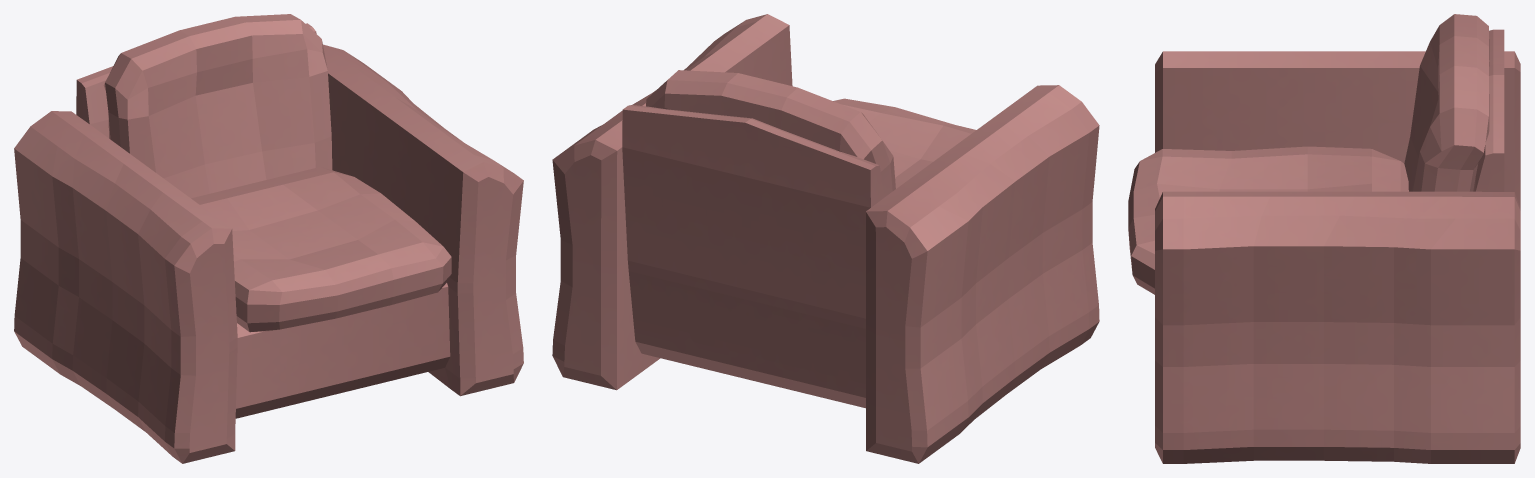
File: arm_chair_1.glb
3 views of the same model, side by side, from view 1: azimuth 30°, elevation 25°; view 2: azimuth 150°, elevation 25°; view 3: azimuth 270°, elevation 25° (orthographic). The views are drawn at different scales.
Parts seen in each view (by area): view 1: armchair_body, armchair_pillow_vert, armchair_pillow_hor; view 2: armchair_body, armchair_pillow_vert, armchair_pillow_hor; view 3: armchair_body, armchair_pillow_hor, armchair_pillow_vert.
Part boxes in pixels (box(x1,y1,x2,y2)): armchair_body: box(14, 23, 523, 463); armchair_pillow_vert: box(103, 14, 332, 198); armchair_pillow_hor: box(191, 167, 451, 332); armchair_body: box(552, 14, 1099, 463); armchair_pillow_vert: box(646, 70, 895, 196); armchair_pillow_hor: box(833, 98, 976, 188); armchair_body: box(1155, 29, 1520, 463); armchair_pillow_hor: box(1128, 146, 1408, 294); armchair_pillow_vert: box(1404, 14, 1489, 191).
Bounding box in the file's own units: 1.05 × 0.8481 × 0.9271.
1 material, 1 textured.
